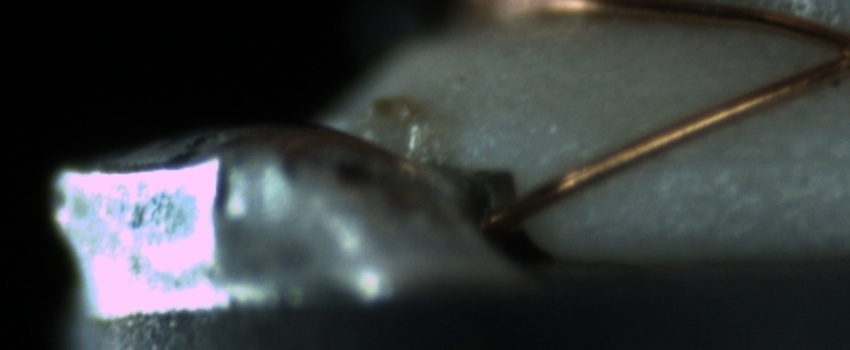DL: (672, 125, 849, 189)
